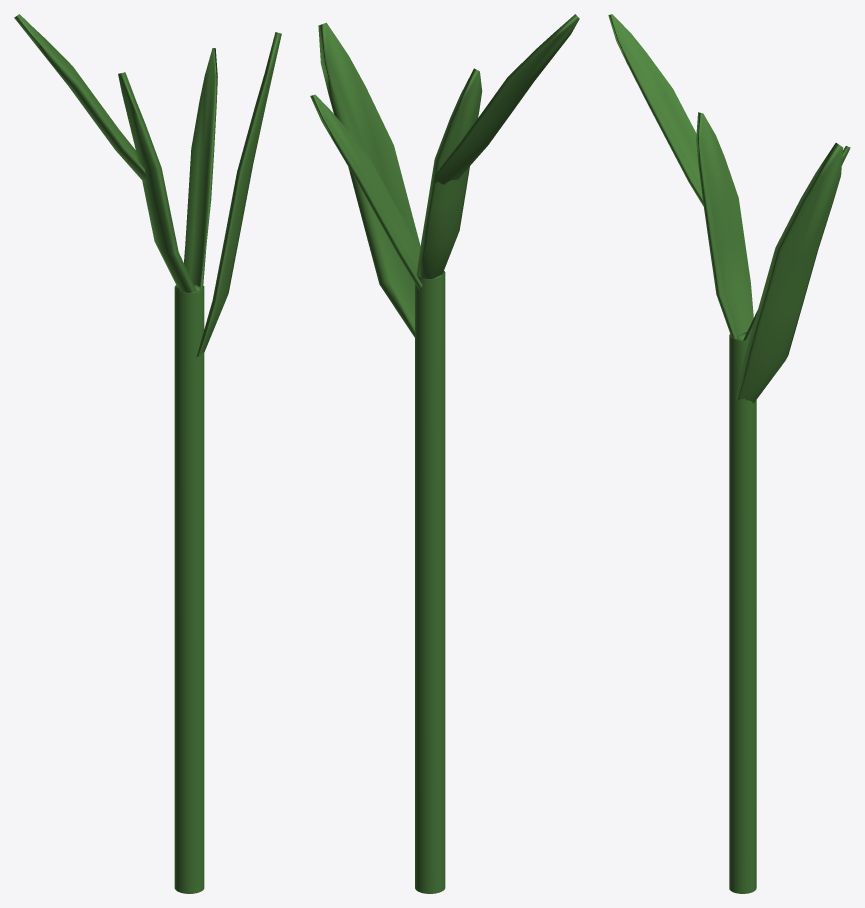
The model's file is Plant 1.fbx.
3 renders of one model, left to right at view 1: azimuth 30°, elevation 25°; view 2: azimuth 150°, elevation 25°; view 3: azimuth 330°, elevation 25°, orthographic. The views are drawn at different scales.
Parts seen in each view (by area): view 1: pasted__pasted__pCube2; view 2: pasted__pasted__pCube2; view 3: pasted__pasted__pCube2.
Part boxes in pixels (x1=…): pasted__pasted__pCube2: x1=14, y1=14, x2=281, y2=893; pasted__pasted__pCube2: x1=310, y1=14, x2=579, y2=893; pasted__pasted__pCube2: x1=608, y1=14, x2=850, y2=893.
Size of the model in its own units: 3.46 by 11.39 by 1.27.
